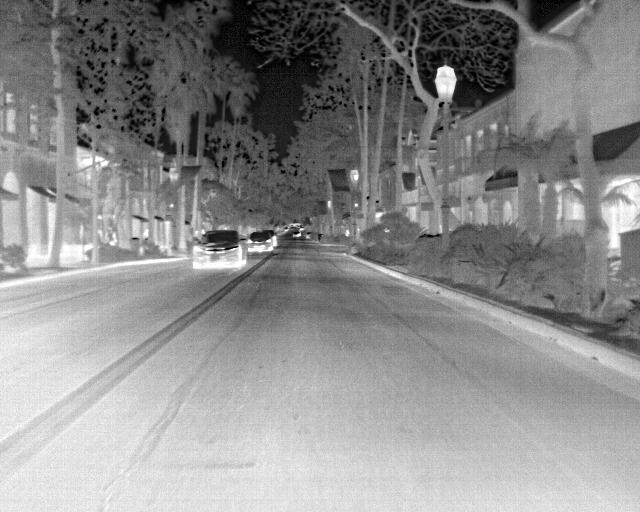bicycle: (192, 229, 248, 271), (246, 233, 273, 255), (265, 230, 280, 249), (292, 229, 304, 241)
